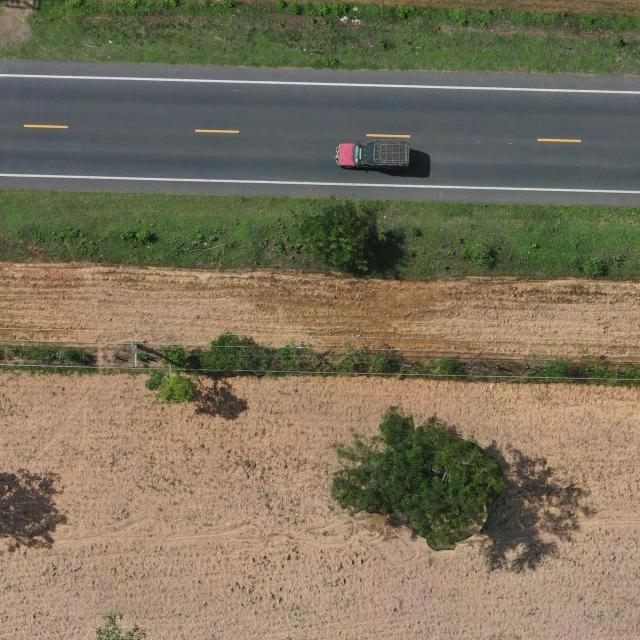Tree: (331, 404, 509, 552), (301, 203, 375, 272), (197, 330, 260, 374), (157, 364, 194, 404), (436, 352, 462, 382), (369, 354, 401, 376)
